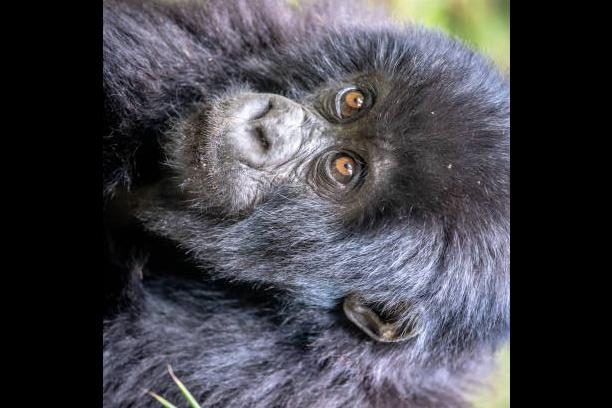goriile_montagne: (102, 0, 508, 408)
